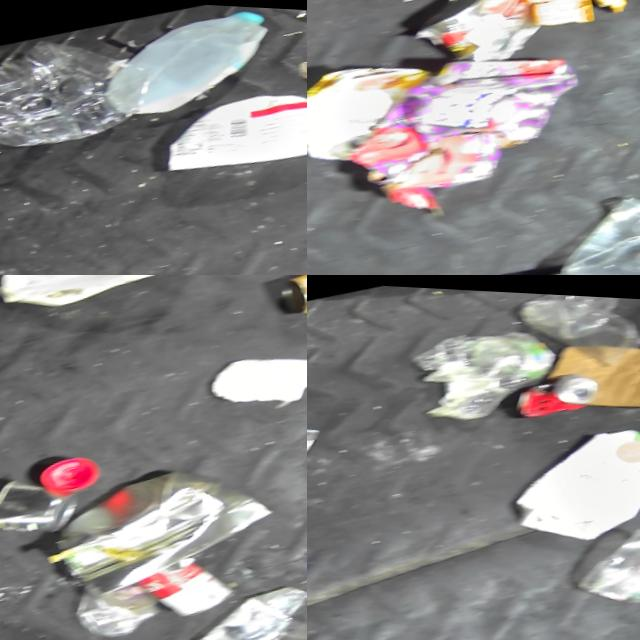can: (33, 439, 285, 607), (400, 0, 542, 74), (126, 540, 236, 625), (0, 460, 81, 547), (498, 363, 603, 424)
milk_jug: (83, 0, 287, 130), (487, 403, 640, 554), (0, 275, 216, 323)
